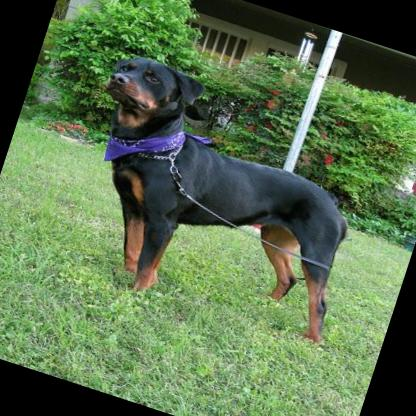Rottweiler: (45, 46, 389, 349)
